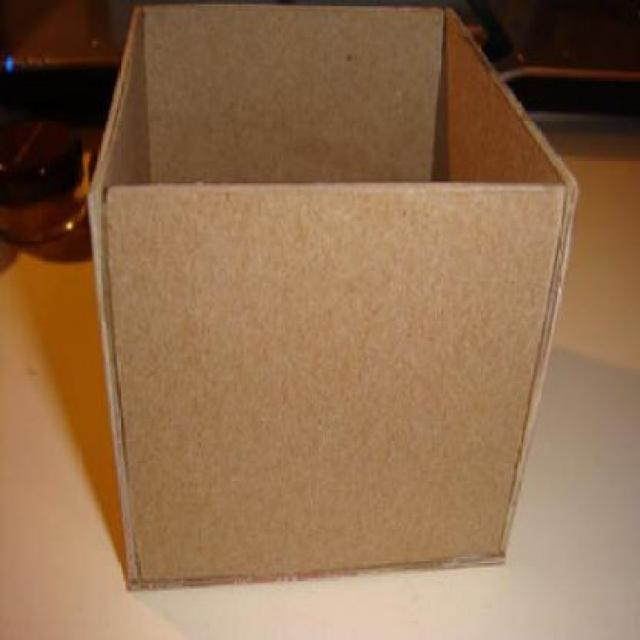box: (84, 5, 576, 598)
